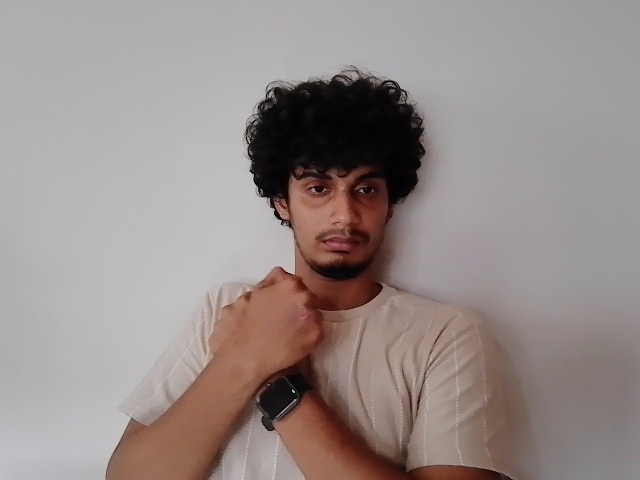love: (208, 270, 331, 405)
